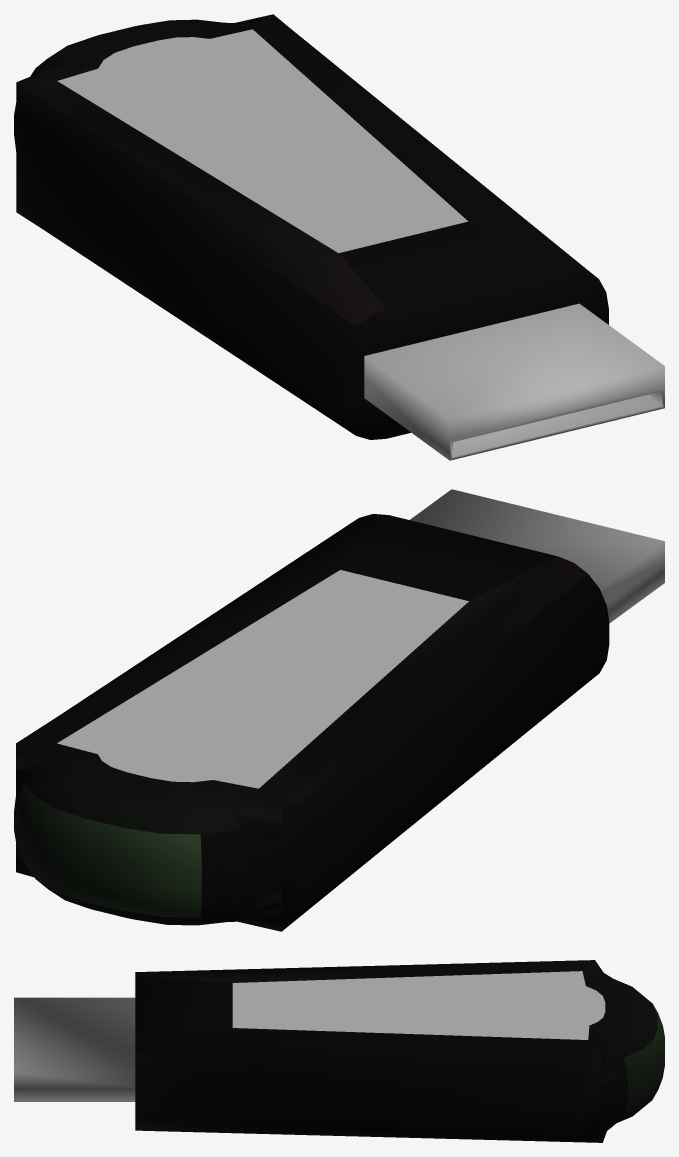
Rendered from FLASHDRIVESMain.fbx.
3 renders of one model, top to bottom at view 1: azimuth 30°, elevation 25°; view 2: azimuth 150°, elevation 25°; view 3: azimuth 270°, elevation 25°, orthographic. The views are drawn at different scales.
Parts seen in each view (by area): view 1: GreenFlashDrive.004; view 2: GreenFlashDrive.004; view 3: GreenFlashDrive.004.
Part boxes in pixels (x1,y1,x2,y2): GreenFlashDrive.004: (14, 14, 664, 460); GreenFlashDrive.004: (14, 489, 664, 931); GreenFlashDrive.004: (14, 960, 664, 1142).
Size of the model in its own units: 200 by 90.72 by 581.
Materials: 1 (1 with a texture image).
